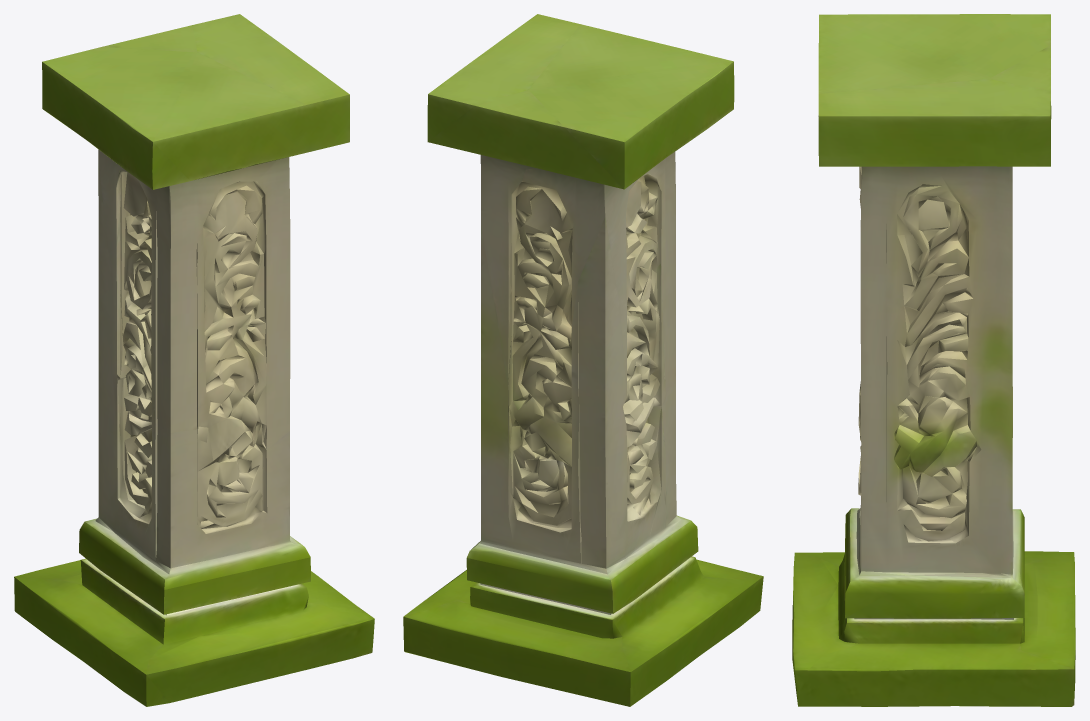
The model's file is templePillarV2.glb.
3 renders of one model, left to right at view 1: azimuth 30°, elevation 25°; view 2: azimuth 150°, elevation 25°; view 3: azimuth 270°, elevation 25°, orthographic. The views are drawn at different scales.
Visible parts, largest first — view 1: model; view 2: model; view 3: model.
Part boxes in pixels (x1,y1,x2,y2): model: (14,14,374,706); model: (403,14,763,706); model: (792,14,1075,706).
Size of the model in its own units: 0.8234 by 1.9 by 0.8336.
Materials: 1 (1 with a texture image).
